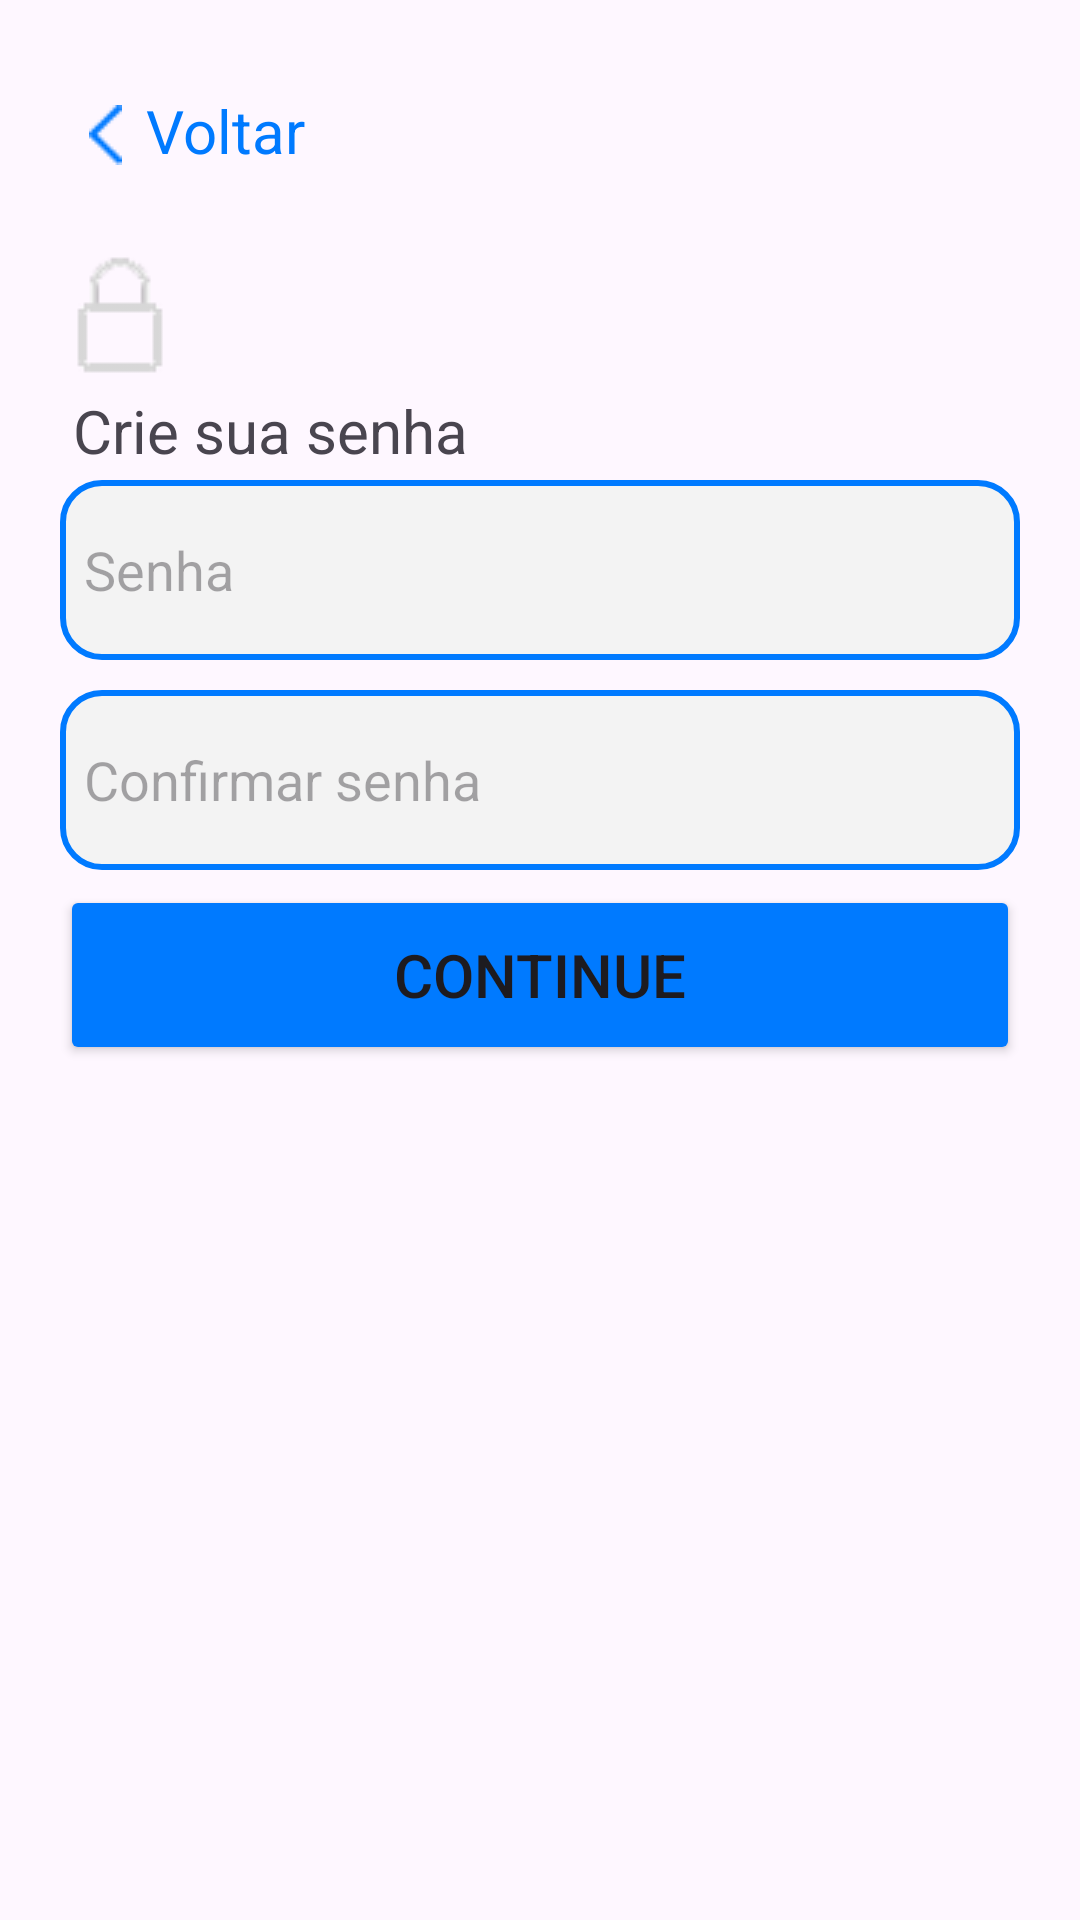

Screen size 1080×1920. Icon name, then its box in pixels as detection(x1, y1, x2, y2):
cadeado: detection(78, 258, 162, 372)
